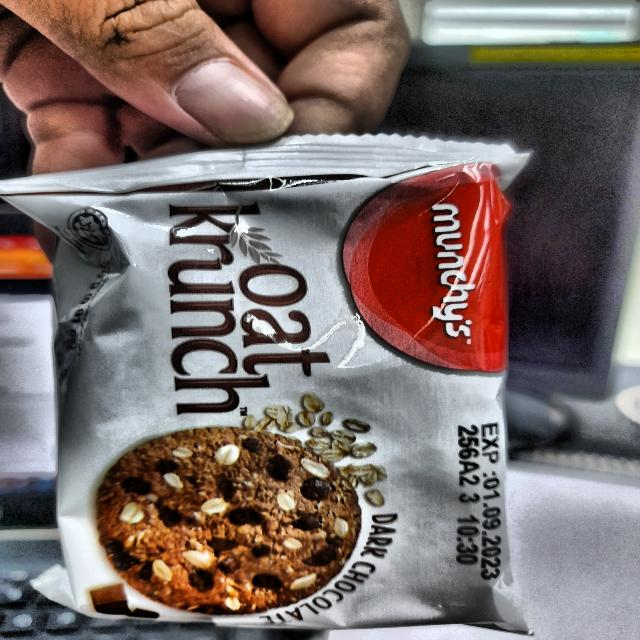Plastic: (14, 145, 542, 626)
